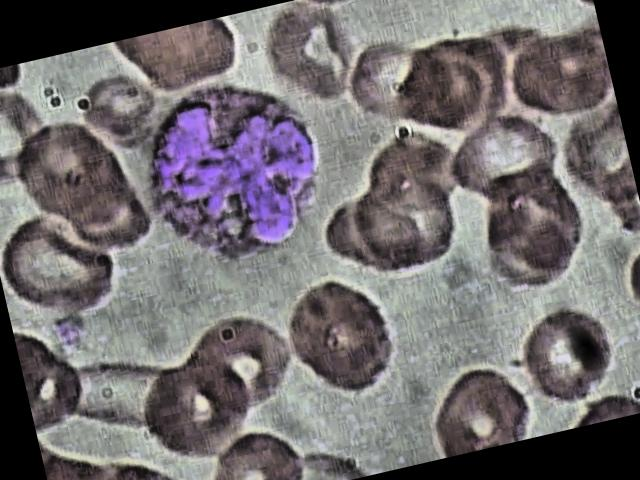RBC: (270, 266, 418, 410), (0, 194, 138, 331), (128, 350, 264, 477), (336, 158, 472, 285), (439, 99, 575, 226), (504, 293, 634, 414), (413, 351, 538, 459), (254, 0, 370, 113), (110, 14, 252, 106), (0, 84, 64, 197), (197, 422, 311, 480)
WBC: (113, 54, 354, 285)
